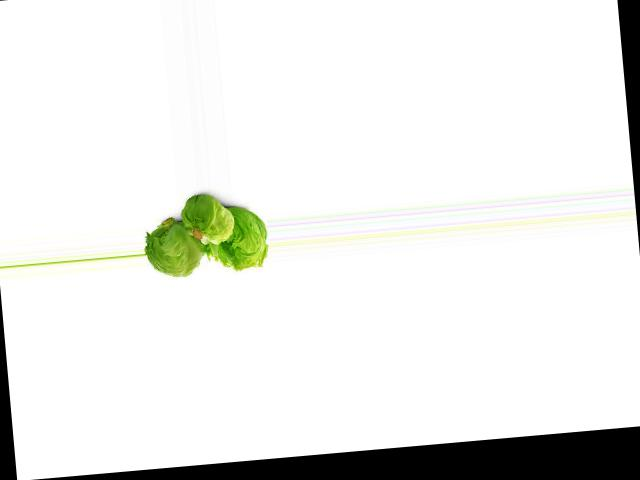lettuce: (210, 208, 266, 269)
